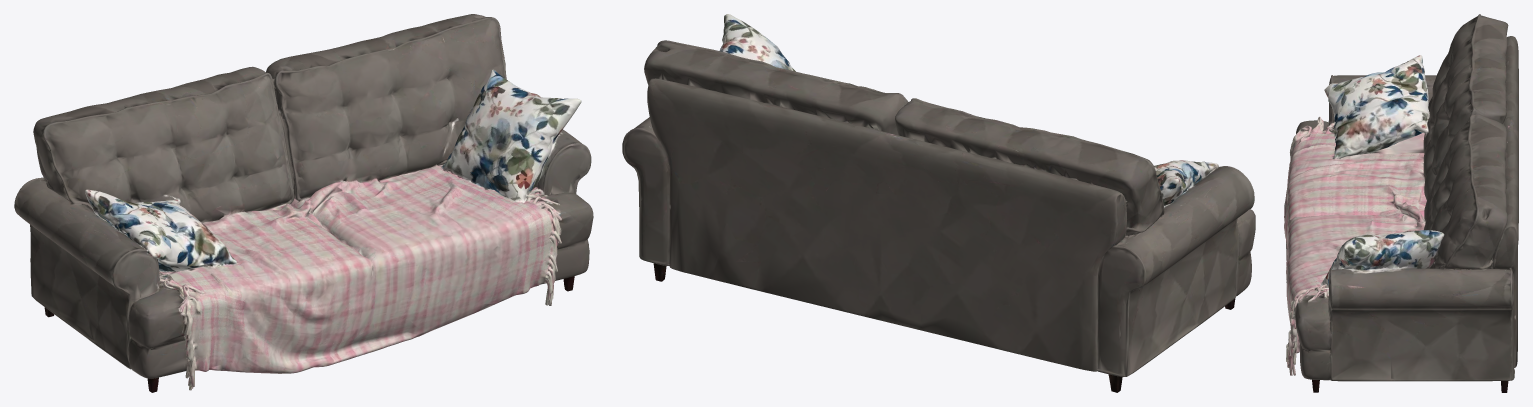
File: sofa-sm.glb
3 renders of one model, left to right at view 1: azimuth 30°, elevation 25°; view 2: azimuth 150°, elevation 25°; view 3: azimuth 270°, elevation 25°, orthographic. The views are drawn at different scales.
Size of the model in its own units: 2 by 0.8344 by 0.9331.
Materials: 1 (1 with a texture image).
